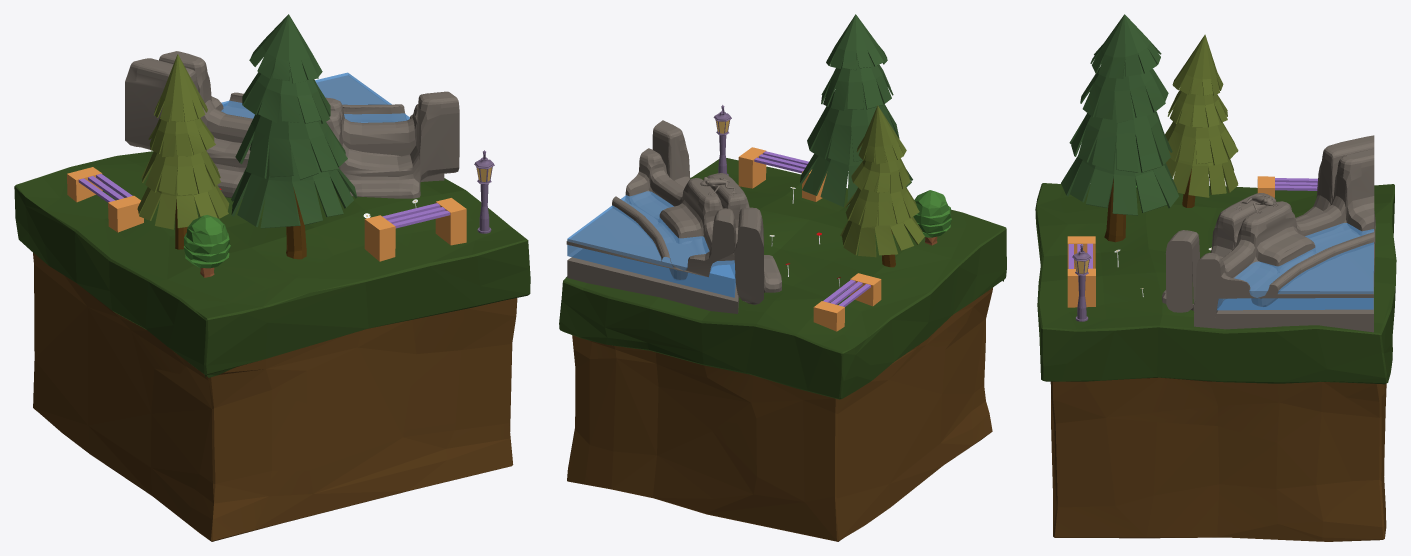
Rendered from R3.min.gltf.
3 renders of one model, left to right at view 1: azimuth 30°, elevation 25°; view 2: azimuth 150°, elevation 25°; view 3: azimuth 270°, elevation 25°, orthographic. The views are drawn at different scales.
Visible parts, largest first — view 1: CENTERED.017; view 2: CENTERED.017; view 3: CENTERED.017.
Boxes of the visible parts, <box> form: CENTERED.017: <box>14,14,530,541</box>; CENTERED.017: <box>559,14,1006,541</box>; CENTERED.017: <box>1035,14,1396,541</box>.
Bounding box in the file's own units: 1.07 × 1.47 × 1.09.
